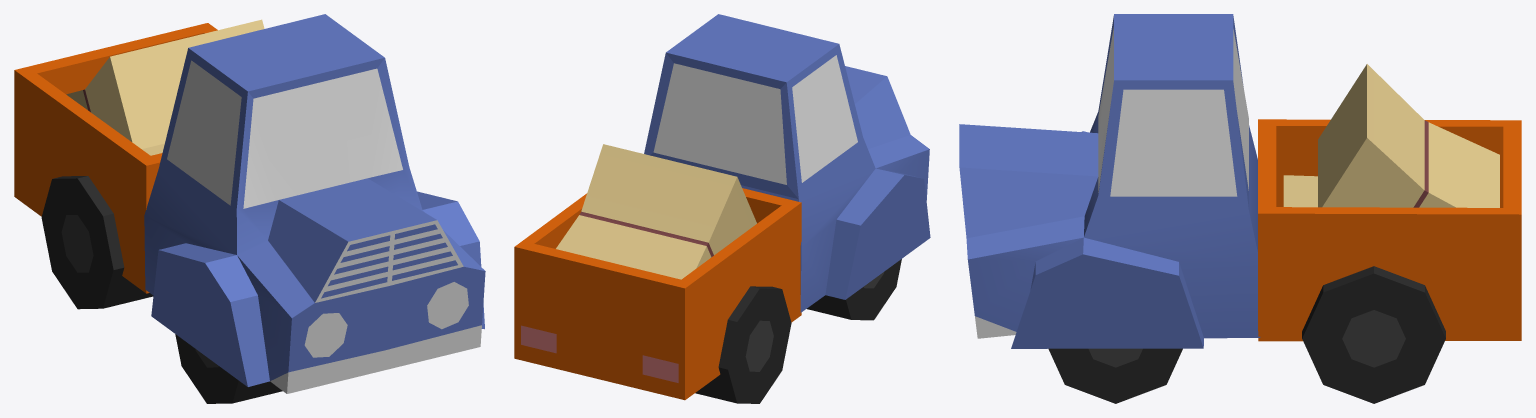
File: C_Car_04.fbx
The picture shows the model from 3 angles, left to right: view 1: azimuth 30°, elevation 25°; view 2: azimuth 150°, elevation 25°; view 3: azimuth 270°, elevation 25°; orthographic projection. The views are drawn at different scales.
Visible parts, largest first — view 1: Car_04, wheel_4_1, wheel_4_2; view 2: Car_04, wheel_4_1, wheel_4_2; view 3: Car_04, wheel_4_4, wheel_4_3.
Part boxes in pixels (x1=…): Car_04: x1=14, y1=14, x2=485, y2=393; wheel_4_1: x1=41, y1=176, x2=153, y2=309; wheel_4_2: x1=175, y1=334, x2=282, y2=403; Car_04: x1=514, y1=14, x2=930, y2=400; wheel_4_1: x1=695, y1=286, x2=791, y2=403; wheel_4_2: x1=807, y1=259, x2=901, y2=320; Car_04: x1=959, y1=14, x2=1521, y2=348; wheel_4_4: x1=1302, y1=266, x2=1445, y2=403; wheel_4_3: x1=1048, y1=348, x2=1182, y2=403.
Bounding box in the file's own units: 29.03 × 33.3 × 56.
